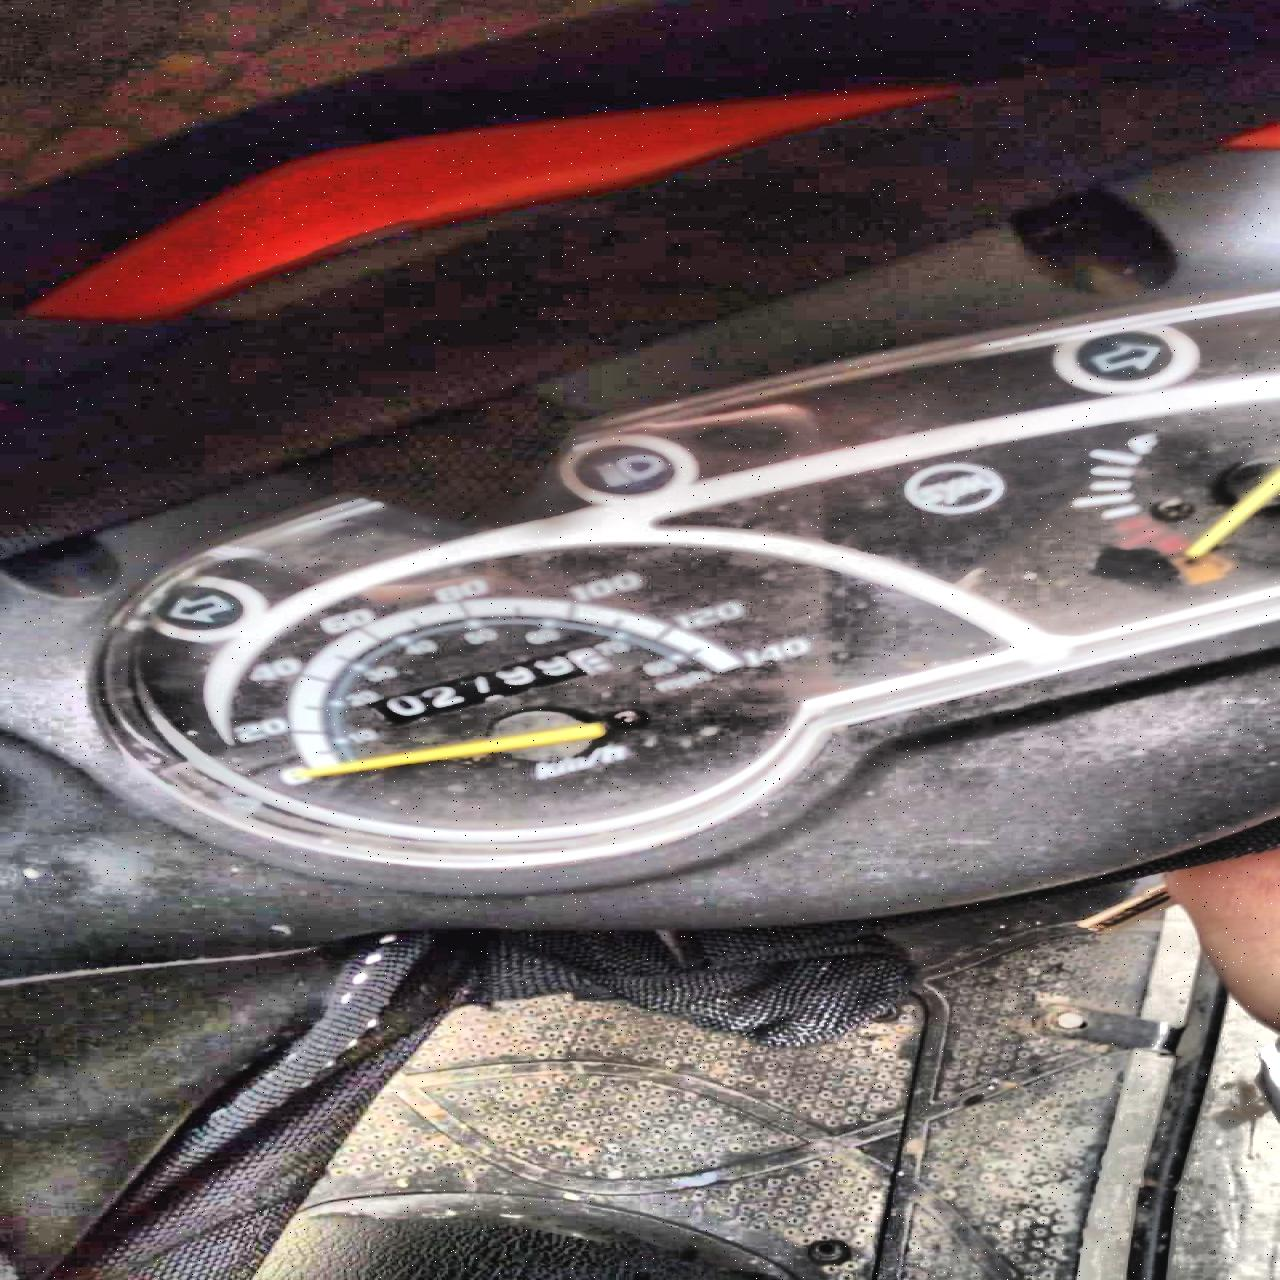0: (382, 695, 426, 718), (374, 664, 398, 678), (358, 690, 378, 701), (418, 640, 435, 650)
2: (419, 685, 466, 706)
3: (363, 670, 382, 681)
4: (405, 644, 419, 654)
7: (454, 674, 493, 695), (595, 642, 611, 656)
8: (578, 655, 616, 675)
9: (531, 653, 573, 677), (493, 663, 533, 687)
odometer: (358, 644, 629, 726)
